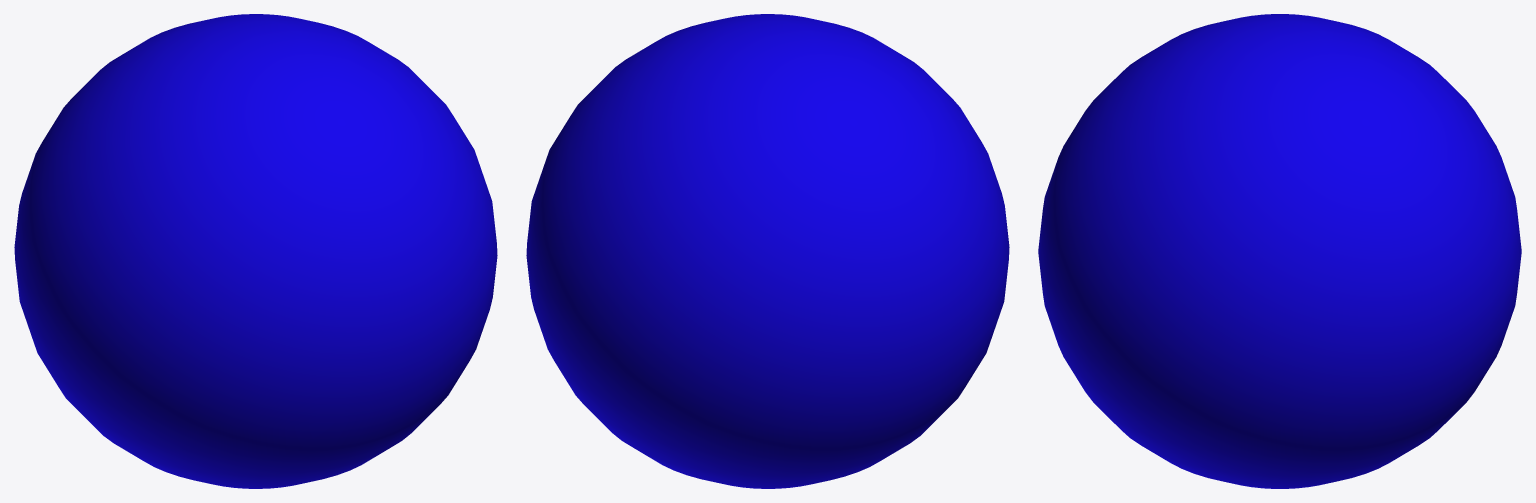
File: ball.dae
The picture shows the model from 3 angles, left to right: view 1: azimuth 30°, elevation 25°; view 2: azimuth 150°, elevation 25°; view 3: azimuth 270°, elevation 25°; orthographic projection.
Visible parts, largest first — view 1: Сфера; view 2: Сфера; view 3: Сфера.
Boxes of the visible parts, bbox=[...] form: Сфера: bbox=[14, 14, 497, 488]; Сфера: bbox=[526, 14, 1009, 488]; Сфера: bbox=[1038, 14, 1521, 488].
Size of the model in its own units: 2 by 2 by 1.96.
